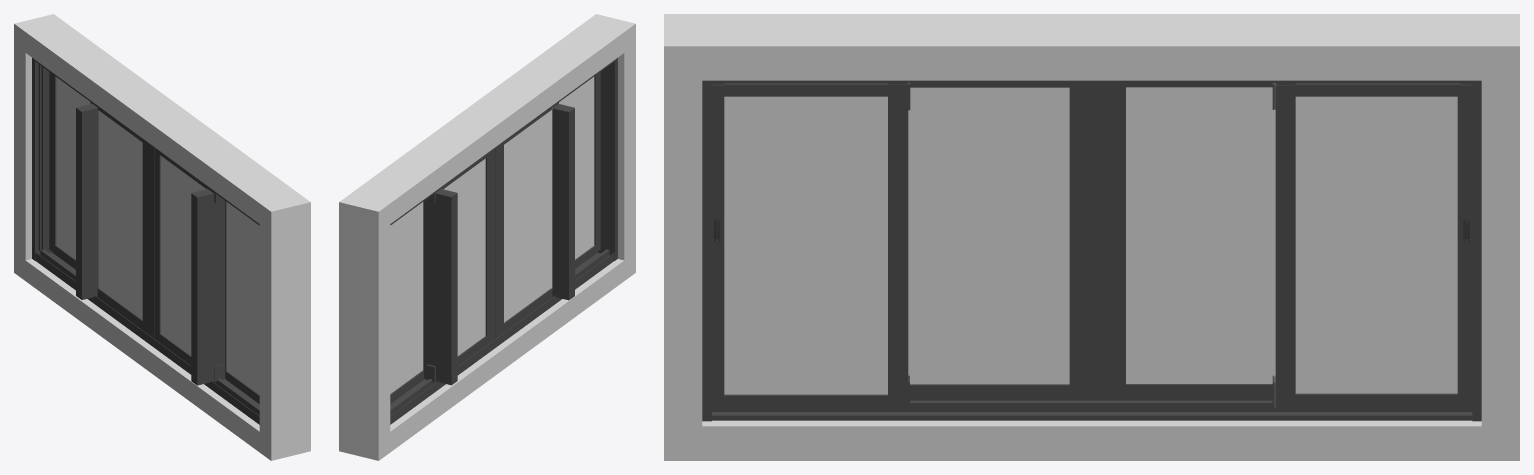
File: Updated.glb
The picture shows the model from 3 angles, left to right: view 1: azimuth 30°, elevation 25°; view 2: azimuth 150°, elevation 25°; view 3: azimuth 270°, elevation 25°; orthographic projection. The views are drawn at different scales.
Visible parts, largest first — view 1: Window_frame.002, Window_panel_01.002, Window_panel_03.002, Window_panel_04.002, Window_rail.002, Window_panel_02.002; view 2: Window_frame.002, Window_panel_04.002, Window_panel_02.002, Window_panel_01.002, Window_rail.002, Window_panel_03.002; view 3: Window_frame.002, Window_panel_04.002, Window_panel_01.002, Window_panel_02.002, Window_panel_03.002, Window_rail.002.
Boxes of the visible parts, box(x1,y1,x2,y2) form: Window_frame.002: box(14, 14, 310, 460); Window_panel_01.002: box(191, 188, 259, 403); Window_panel_03.002: box(97, 107, 149, 334); Window_panel_04.002: box(49, 72, 98, 299); Window_rail.002: box(32, 58, 259, 424); Window_panel_02.002: box(154, 149, 207, 364); Window_frame.002: box(339, 14, 635, 460); Window_panel_04.002: box(390, 189, 457, 403); Window_panel_02.002: box(500, 107, 552, 334); Window_panel_01.002: box(552, 72, 600, 300); Window_rail.002: box(390, 58, 617, 424); Window_panel_03.002: box(441, 149, 494, 365); Window_frame.002: box(664, 14, 1519, 460); Window_panel_04.002: box(1272, 82, 1472, 408); Window_panel_01.002: box(712, 82, 910, 408); Window_panel_02.002: box(908, 85, 1084, 398); Window_panel_03.002: box(1099, 85, 1275, 398); Window_rail.002: box(702, 80, 1481, 421).
Bounding box in the file's own units: 0.5042 × 2.59 × 4.85.
Materials: 5 (1 with a texture image).
